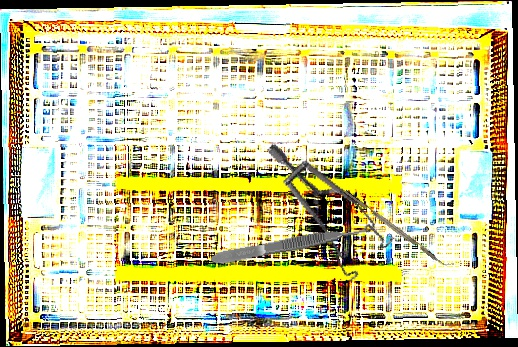Chopper: (343, 185, 455, 272)
Speculum: (233, 142, 412, 291)
Tissue Forceps: (209, 224, 368, 267)
